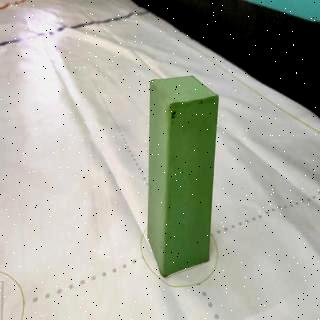greenbox: (147, 74, 220, 278)
